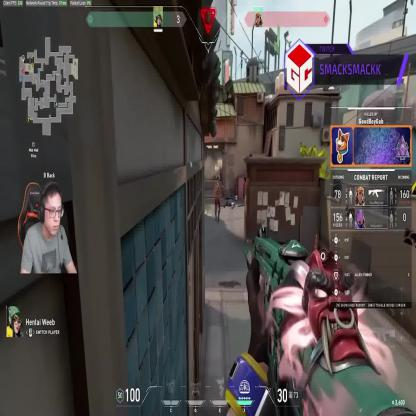enemy: (213, 179, 222, 222)
enemy_head: (216, 180, 219, 186)
